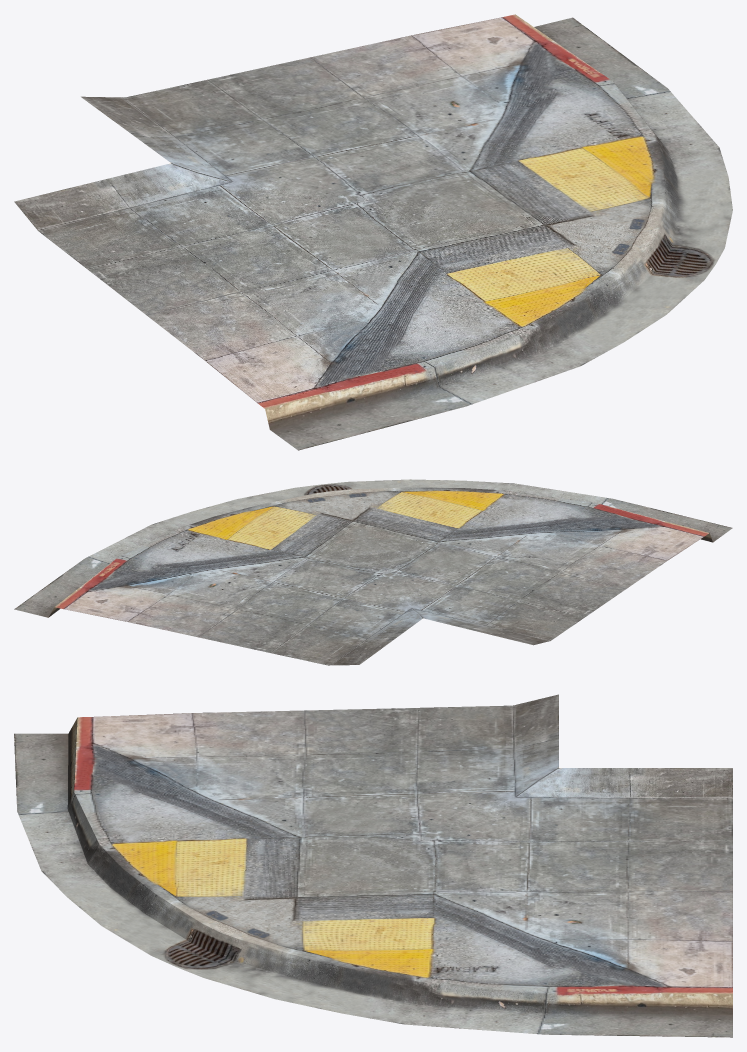
Rendered from Corner-curb-1.glb.
3 renders of one model, top to bottom at view 1: azimuth 30°, elevation 25°; view 2: azimuth 150°, elevation 25°; view 3: azimuth 270°, elevation 25°, orthographic. The views are drawn at different scales.
Visible parts, largest first — view 1: 1; view 2: 1; view 3: 1.
Part boxes in pixels (box(x1,y1,x2,y2)): 1: box(14, 14, 732, 450); 1: box(14, 479, 732, 665); 1: box(14, 694, 732, 1037).
Size of the model in its own units: 6.8 by 0.4094 by 6.8.
Materials: 1 (1 with a texture image).
